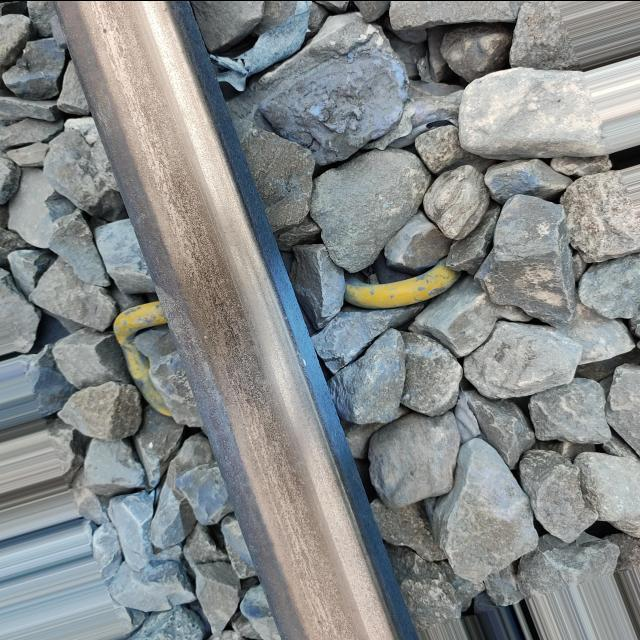squats_high: (101, 25, 107, 35)
